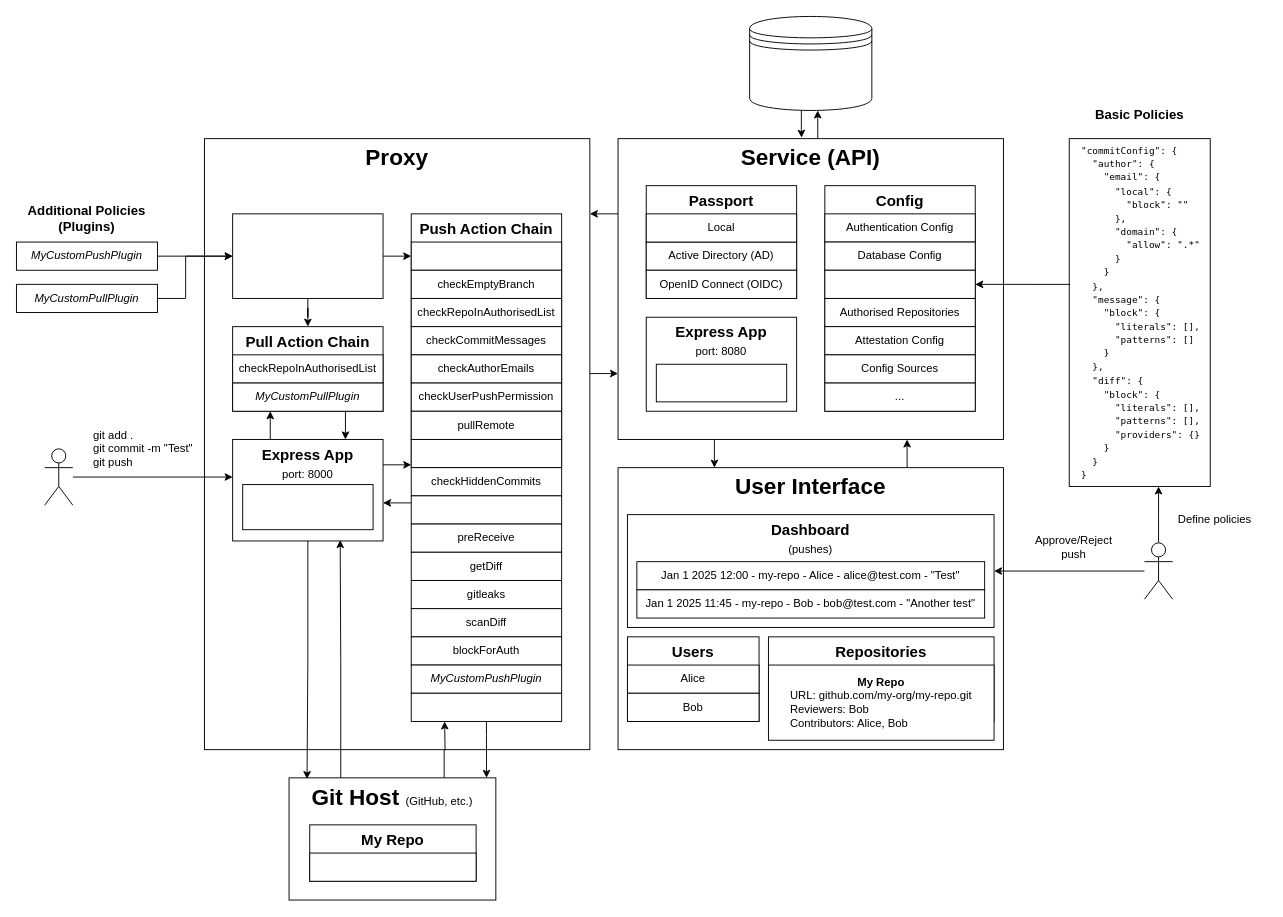
Image size: 1283x917. Some labels were removed from this diagram. The shapes that lost their labels are listed below. From the top down, each one's centre as x and y in pixels, then its label:
At (810,63): "Sink (NeDB, MongoDB, etc.)".
At (307,255): "Plugin Loader".
At (486,255): "parsePush".
At (899,283): "Commit Blocking Rules".
At (721,382): "Service Routes".
At (486,453): "writePack".
At (58,476): "GitProxy User Alice".
At (307,507): "Proxy Routes".
At (486,509): "checkIfWaitingAuth".
At (1158,570): "GitProxy Admin Bob".
At (486,706): "clearBareClone".
At (392,866): "github.com/my-org/my-repo.git".
